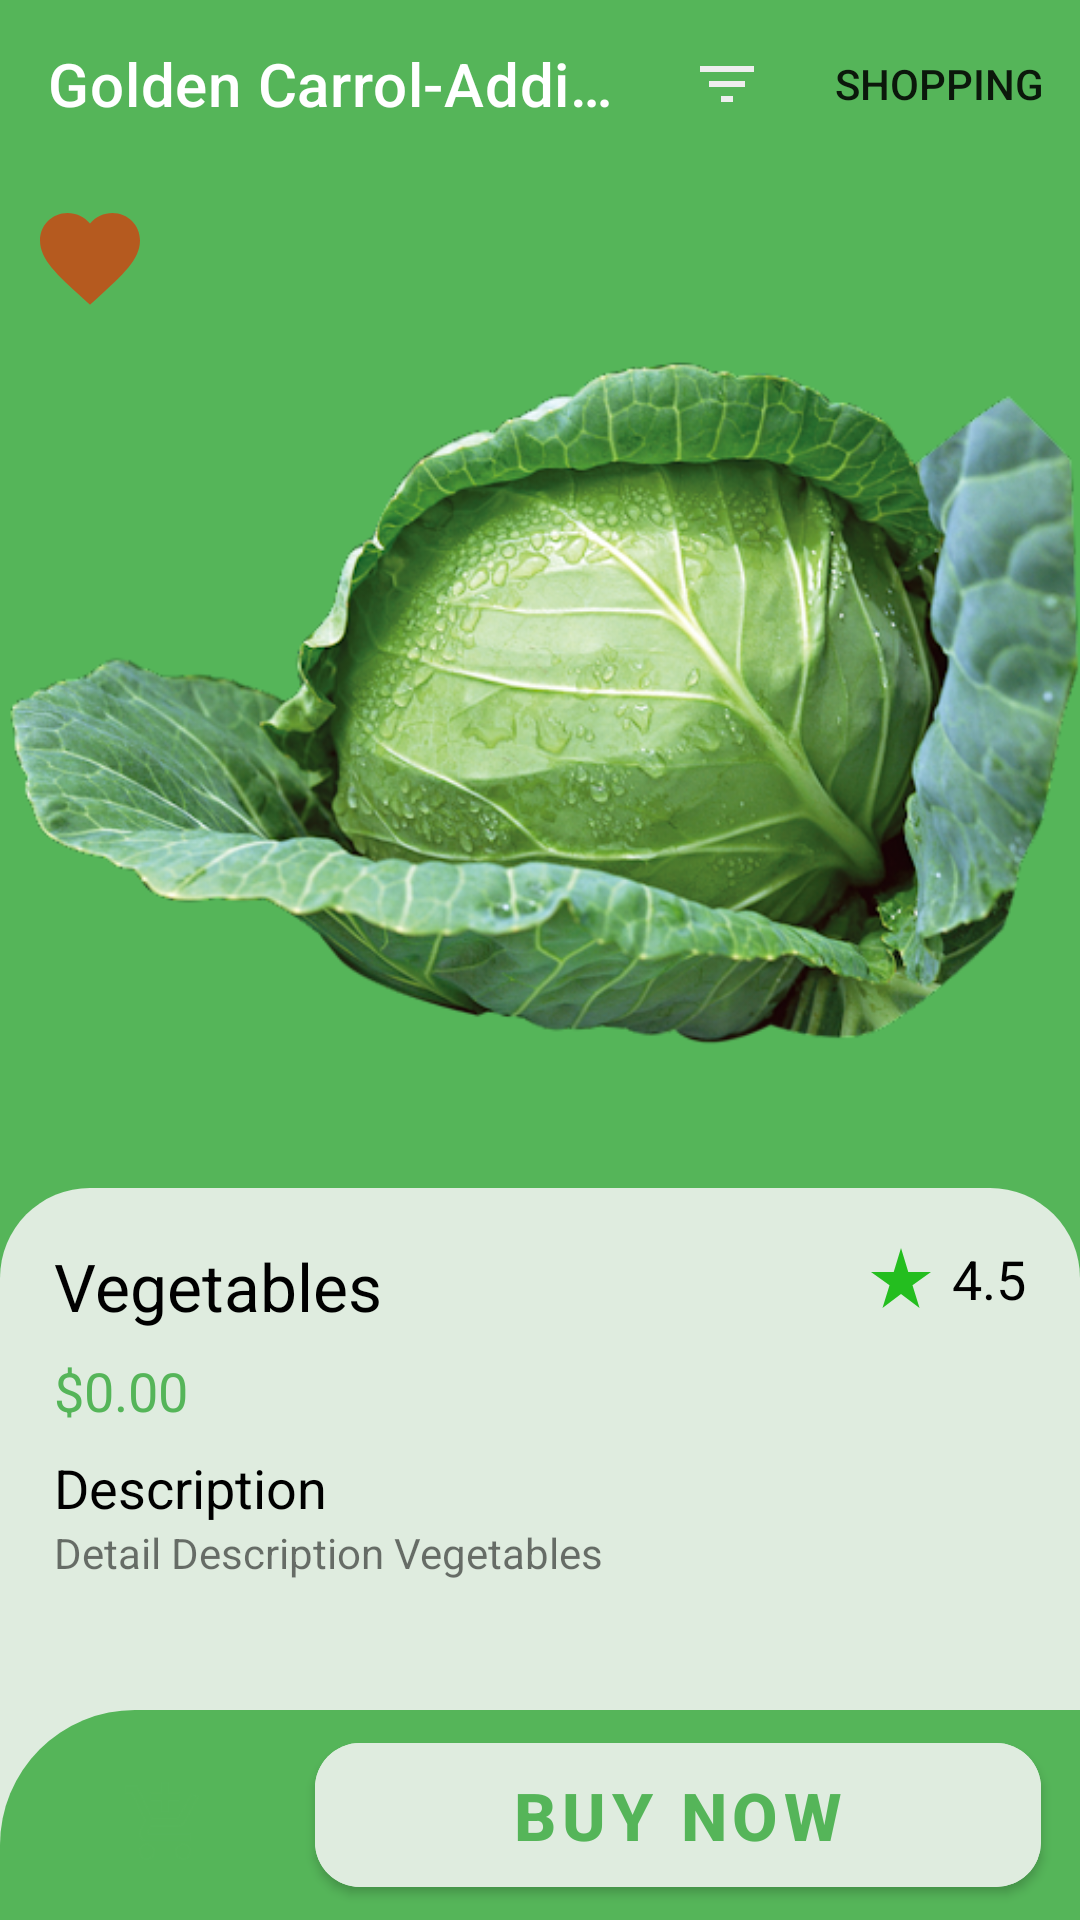

Point at icon controls on the screen. Image size 1080x1920, points as (x=x, y=y).
favorite: (x=90, y=259)
star rate: (x=901, y=1278)
